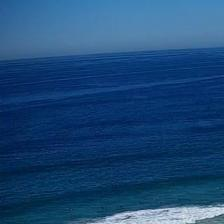surfer: (218, 186, 223, 190), (68, 206, 72, 210), (96, 211, 102, 213), (106, 202, 110, 205), (119, 204, 123, 207), (138, 202, 144, 204), (155, 198, 158, 201), (71, 214, 73, 217), (102, 206, 104, 209), (160, 202, 163, 204), (222, 193, 223, 196)
